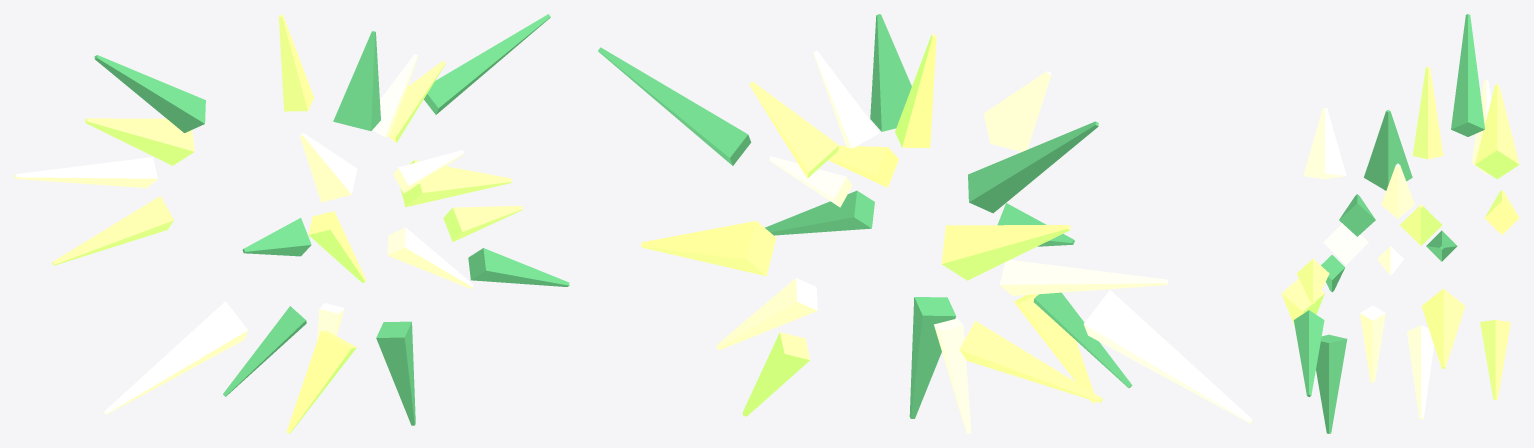
File: toxic.glb
The picture shows the model from 3 angles, left to right: view 1: azimuth 30°, elevation 25°; view 2: azimuth 150°, elevation 25°; view 3: azimuth 270°, elevation 25°; orthographic projection. The views are drawn at different scales.
Parts seen in each view (by area): view 1: Toxic Splash dimensional effect.001; view 2: Toxic Splash dimensional effect.001; view 3: Toxic Splash dimensional effect.001.
Boxes of the visible parts, x1,y1,x2,y2 form: Toxic Splash dimensional effect.001: [14, 14, 569, 433]; Toxic Splash dimensional effect.001: [598, 14, 1252, 433]; Toxic Splash dimensional effect.001: [1281, 14, 1519, 433].
Bounding box in the file's own units: 1.38 × 0.9956 × 0.6418.
